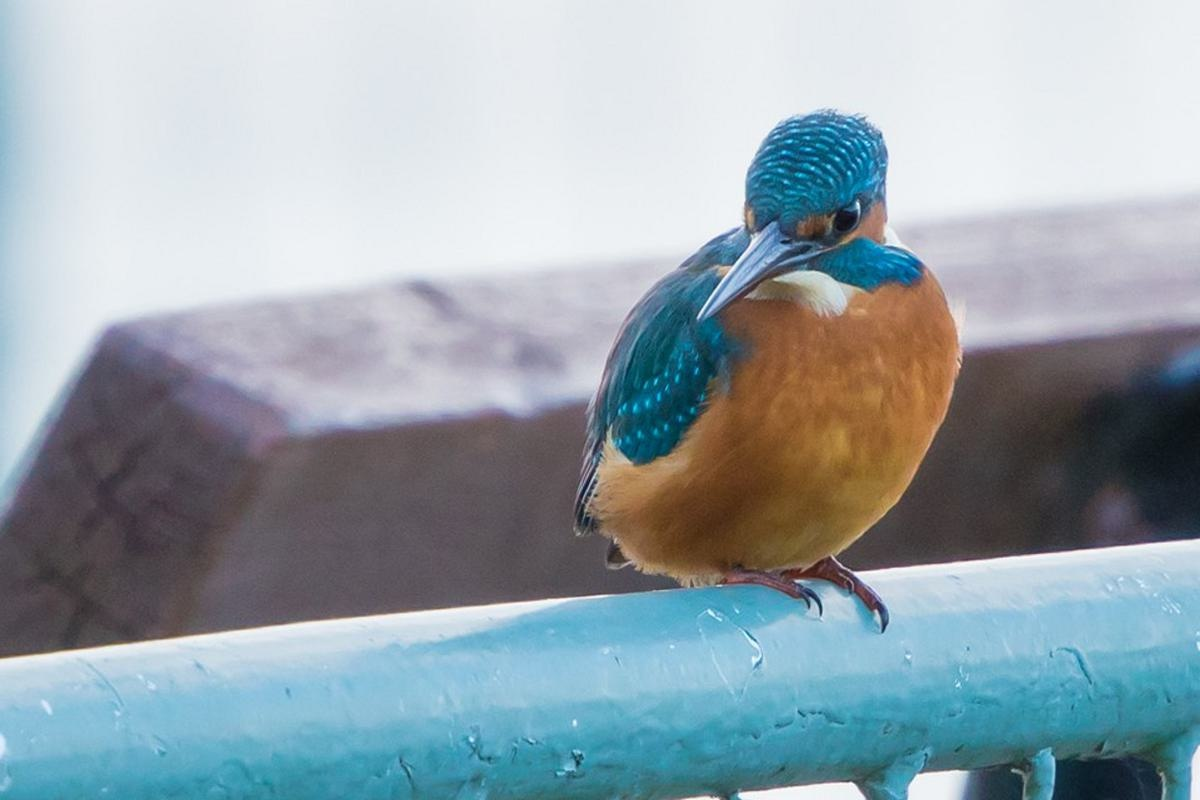kingfisher: (617, 101, 980, 611)
